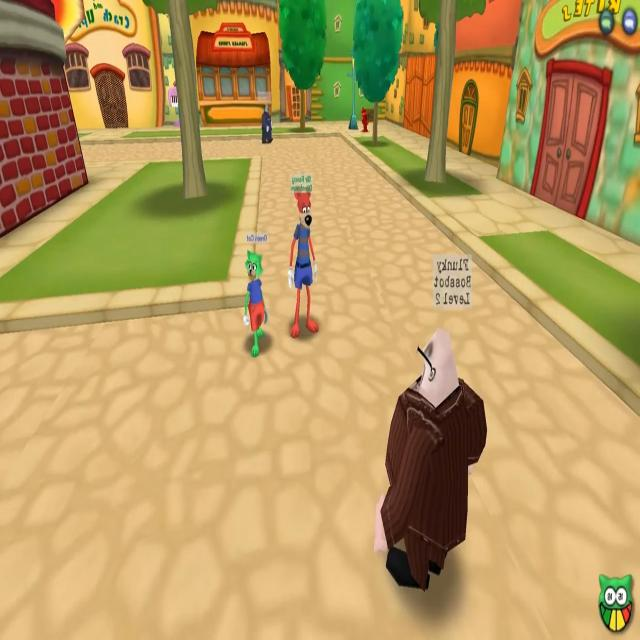bottomfeeder: (256, 101, 277, 144)
flunky: (374, 258, 487, 601)
